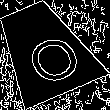O_NW: (9, 18, 79, 83)
